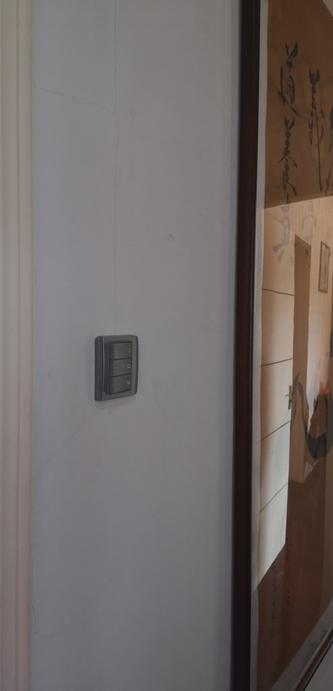switch: (103, 339, 136, 363), (102, 370, 135, 392), (104, 357, 138, 377)
